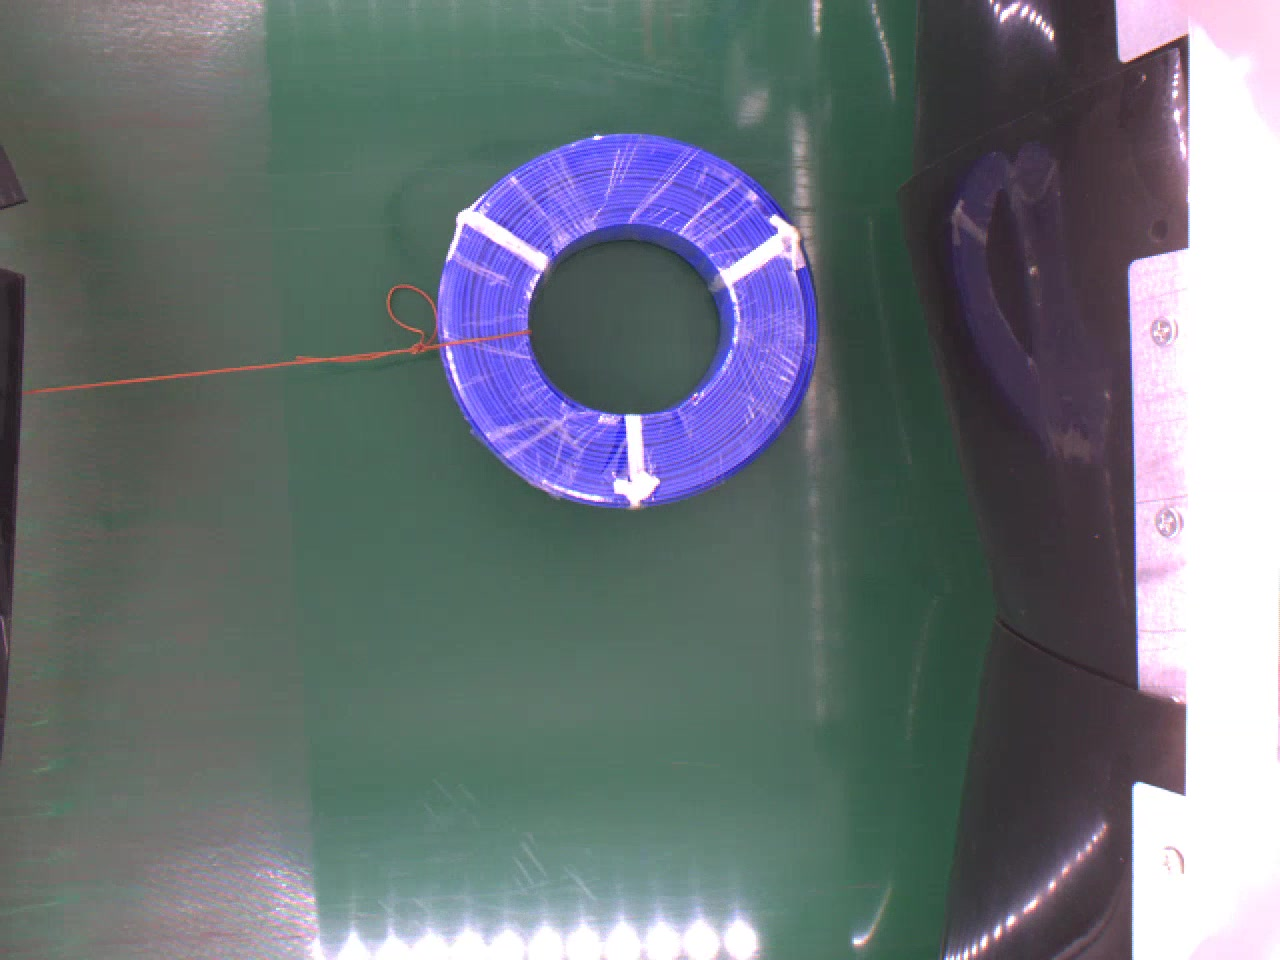blue: (437, 125, 823, 508)
